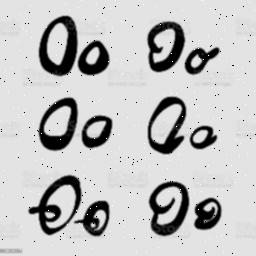o: (24, 172, 84, 240), (143, 90, 189, 158), (30, 14, 78, 78), (34, 90, 80, 156), (146, 176, 192, 238), (144, 17, 186, 79), (80, 110, 122, 158), (74, 195, 116, 239), (182, 39, 224, 77), (192, 190, 228, 234), (76, 36, 112, 76), (188, 116, 222, 156)
